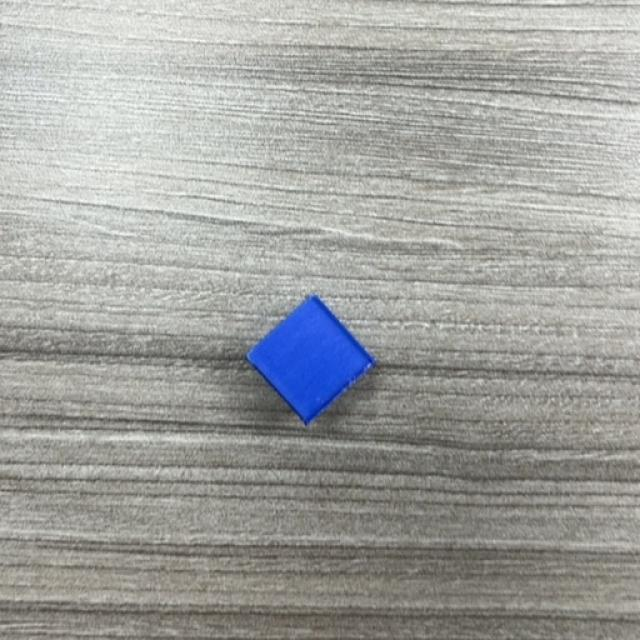Azul: (246, 296, 378, 426)
